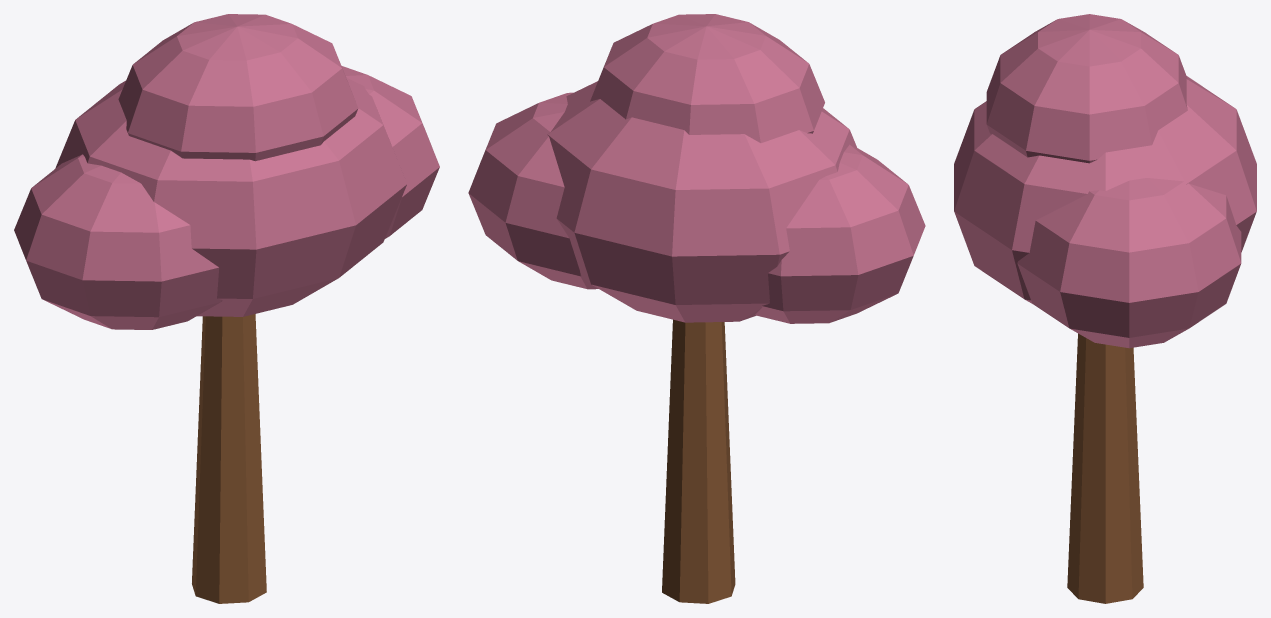
The model's file is tree_flowering.glb.
3 renders of one model, left to right at view 1: azimuth 30°, elevation 25°; view 2: azimuth 150°, elevation 25°; view 3: azimuth 270°, elevation 25°, orthographic. The views are drawn at different scales.
Parts seen in each view (by area): view 1: rough; view 2: rough; view 3: rough.
Part boxes in pixels (bbox=[...]): rough: bbox=[14, 14, 439, 603]; rough: bbox=[468, 14, 925, 603]; rough: bbox=[954, 14, 1256, 603].
Size of the model in its own units: 3.01 by 3.87 by 1.9.
